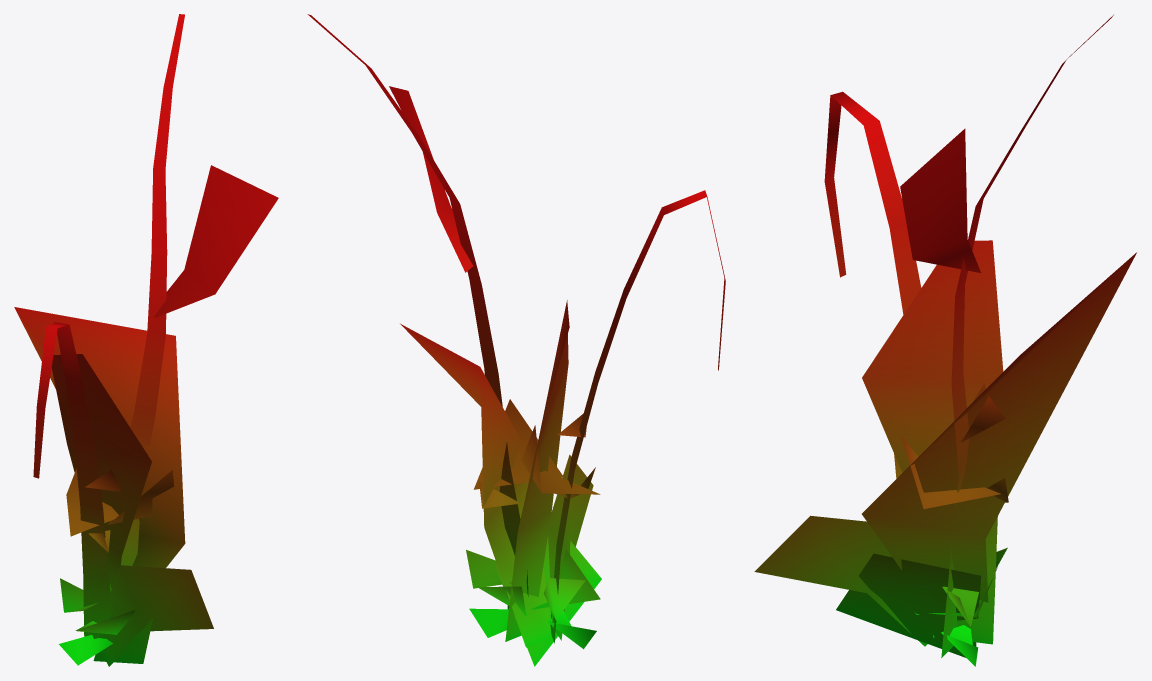
Rendered from Myricaria_LOD2_Var5_tfbldaor.fbx.
3 views of the same model, side by side, from view 1: azimuth 30°, elevation 25°; view 2: azimuth 150°, elevation 25°; view 3: azimuth 270°, elevation 25° (orthographic). The views are drawn at different scales.
Parts seen in each view (by area): view 1: _338f_Var5_LOD2; view 2: _338f_Var5_LOD2; view 3: _338f_Var5_LOD2.
Boxes of the visible parts, x1,y1,x2,y2 form: _338f_Var5_LOD2: (14, 14, 278, 666); _338f_Var5_LOD2: (307, 14, 725, 666); _338f_Var5_LOD2: (754, 15, 1136, 666).
Bounding box in the file's own units: 16.25 × 33.23 × 15.71.
